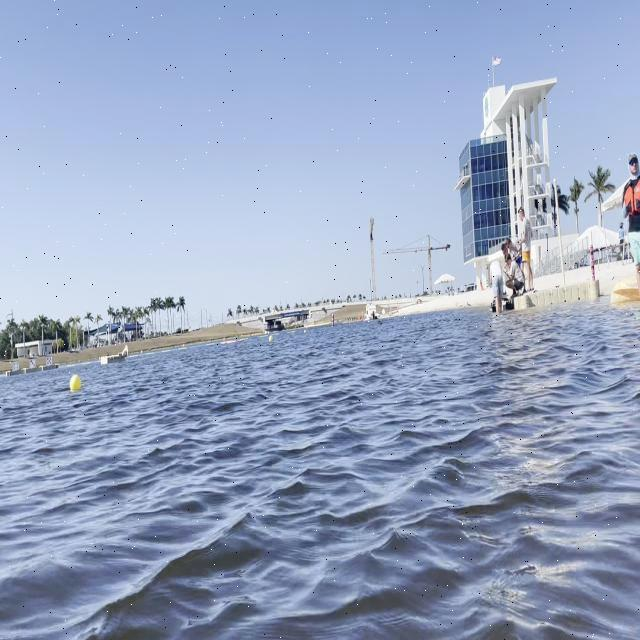buoy: (70, 374, 82, 396)
